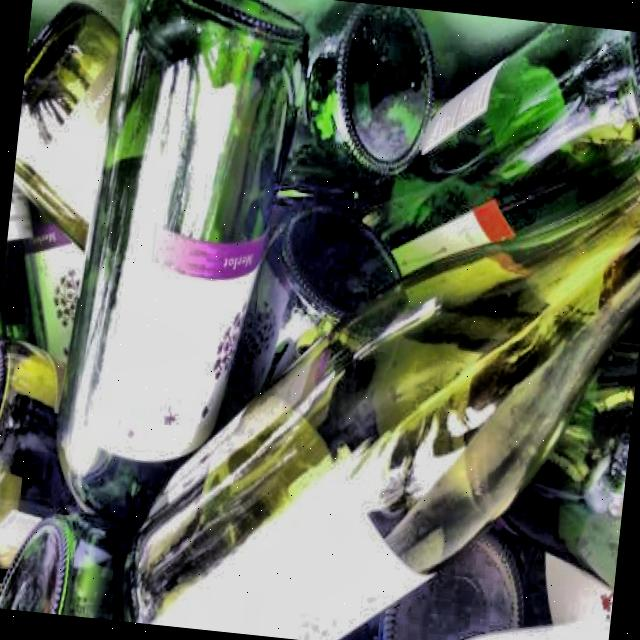glass: (125, 105, 640, 640), (55, 0, 294, 520)
